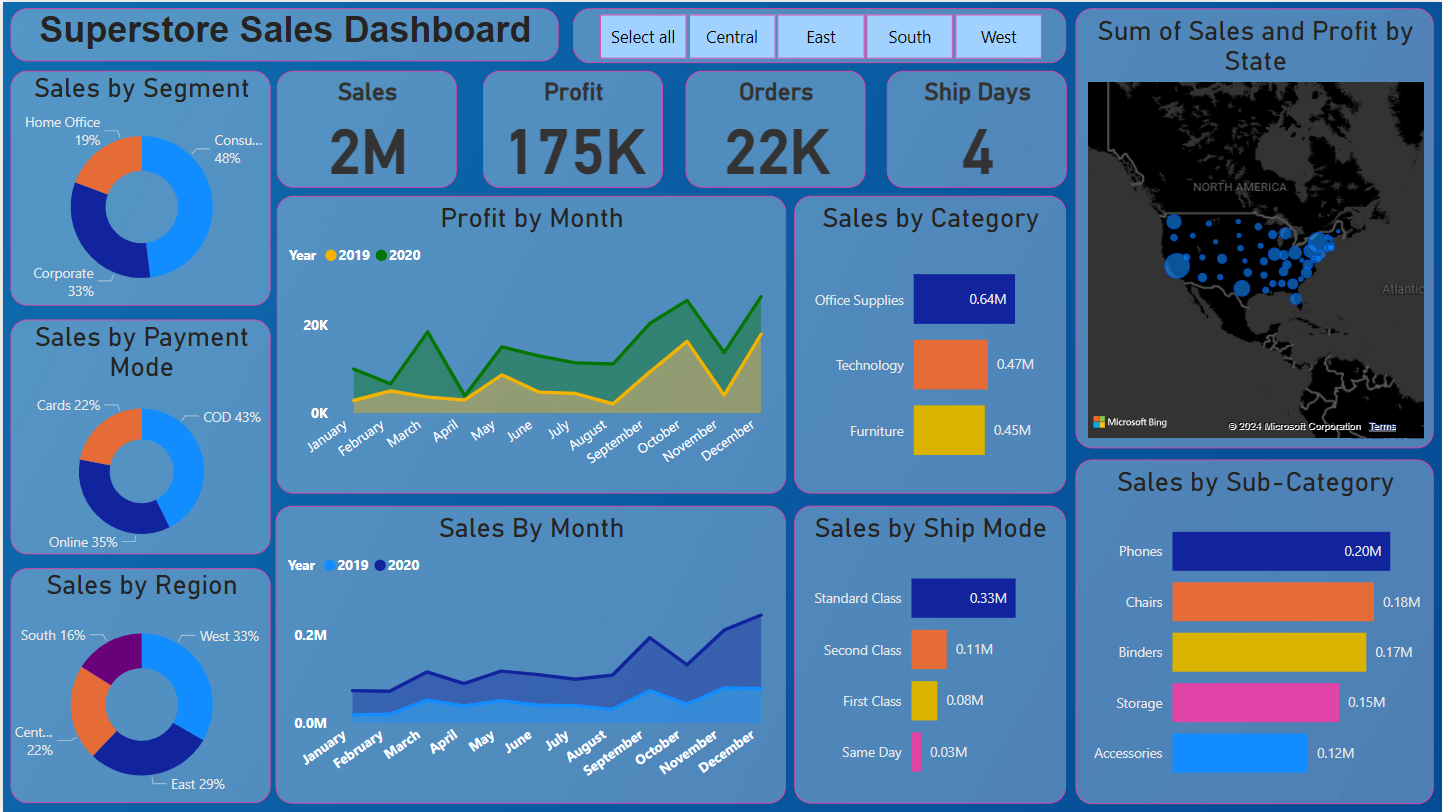

The page's visual inventory and layout, read from the dashboard file:
{"tool":"powerbi","page":{"name":"Analysis","canvas":[1280,720],"ordinal":0},"visuals":[{"type":"clusteredBarChart","title":"Sales by Category","fields":{"Category":["SuperStore_Sales_Dataset.Category"],"Y":["Sum(SuperStore_Sales_Dataset.Sales)"]},"box":[703.8,172.5,241.2,265],"z":0},{"type":"clusteredBarChart","title":"Sales by Sub-Category","fields":{"Y":["Sum(SuperStore_Sales_Dataset.Sales)"],"Category":["SuperStore_Sales_Dataset.Sub-Category"]},"box":[953.8,406.2,318.8,306.2],"z":1000},{"type":"clusteredBarChart","title":"Sales by Ship Mode","fields":{"Y":["Sum(SuperStore_Sales_Dataset.Sales)"],"Category":["SuperStore_Sales_Dataset.Ship Mode"]},"box":[703.8,447.5,241.2,265],"z":2000},{"type":"stackedAreaChart","title":"Sales By Month","fields":{"Y":["Sum(SuperStore_Sales_Dataset.Sales)"],"Category":["SuperStore_Sales_Dataset.F Order Date.Variation.Date Hierarchy.Month","SuperStore_Sales_Dataset.F Order Date.Variation.Date Hierarchy.Day"],"Series":["SuperStore_Sales_Dataset.F Order Date.Variation.Date Hierarchy.Year"]},"box":[242.5,447.5,453.8,265],"z":3000},{"type":"stackedAreaChart","title":"Profit by Month","fields":{"Category":["SuperStore_Sales_Dataset.F Order Date.Variation.Date Hierarchy.Month","SuperStore_Sales_Dataset.F Order Date.Variation.Date Hierarchy.Day"],"Series":["SuperStore_Sales_Dataset.F Order Date.Variation.Date Hierarchy.Year"],"Y":["Sum(SuperStore_Sales_Dataset.Profit)"]},"box":[243.8,172.5,452.5,265],"z":4000},{"type":"map","title":"Sum of Sales and Profit by State","fields":{"Size":["Sum(SuperStore_Sales_Dataset.Sales)"],"Category":["SuperStore_Sales_Dataset.State"]},"box":[953.8,5,318.8,391.2],"z":5000},{"type":"donutChart","title":"Sales by Segment","fields":{"Category":["SuperStore_Sales_Dataset.Segment"],"Y":["Sum(SuperStore_Sales_Dataset.Sales)"]},"box":[6.7,61.1,231.1,208.9],"z":6000},{"type":"donutChart","title":"Sales by Payment Mode","fields":{"Category":["SuperStore_Sales_Dataset.Payment Mode"],"Y":["Sum(SuperStore_Sales_Dataset.Sales)"]},"box":[6.7,282.5,230.8,209.2],"z":7000},{"type":"slicer","fields":{"Values":["SuperStore_Sales_Dataset.Region"]},"box":[506.2,5,438.8,48.8],"z":8000},{"type":"textbox","box":[7.1,5.7,487.1,47.1],"z":9000},{"type":"card","title":"Sales","fields":{"Values":["Sum(SuperStore_Sales_Dataset.Sales)"]},"box":[243.8,61.2,160,103.8],"z":10000},{"type":"card","title":"Profit","fields":{"Values":["Sum(SuperStore_Sales_Dataset.Profit)"]},"box":[426.2,61.2,160,103.8],"z":11000},{"type":"card","title":"Orders","fields":{"Values":["Sum(SuperStore_Sales_Dataset.Quantity)"]},"box":[606.2,61.2,160,103.8],"z":12000},{"type":"card","title":"Ship Days","fields":{"Values":["Avg(SuperStore_Sales_Dataset.AvgDelDay)"]},"box":[785,61.2,160,103.8],"z":13000},{"type":"donutChart","title":"Sales by Region","fields":{"Category":["SuperStore_Sales_Dataset.Region"],"Y":["Sum(SuperStore_Sales_Dataset.Sales)"]},"box":[6.7,503.3,231.1,208.9],"z":14000}]}

Visuals, with their boxes in screenshot pixels (x1, y1, x2, y2), scaled from the page's 1280x720 canvas onto the 1442x812 screenshot:
"Sales by Category" clusteredBarChart: <region>793, 195, 1065, 493</region>
"Sales by Sub-Category" clusteredBarChart: <region>1075, 458, 1434, 803</region>
"Sales by Ship Mode" clusteredBarChart: <region>793, 505, 1065, 804</region>
"Sales By Month" stackedAreaChart: <region>273, 505, 784, 804</region>
"Profit by Month" stackedAreaChart: <region>275, 195, 784, 493</region>
"Sum of Sales and Profit by State" map: <region>1075, 6, 1434, 447</region>
"Sales by Segment" donutChart: <region>8, 69, 268, 304</region>
"Sales by Payment Mode" donutChart: <region>8, 319, 268, 555</region>
slicer - SuperStore_Sales_Dataset.Region: <region>570, 6, 1065, 61</region>
textbox: <region>8, 6, 557, 60</region>
"Sales" card: <region>275, 69, 455, 186</region>
"Profit" card: <region>480, 69, 660, 186</region>
"Orders" card: <region>683, 69, 863, 186</region>
"Ship Days" card: <region>884, 69, 1065, 186</region>
"Sales by Region" donutChart: <region>8, 568, 268, 803</region>
